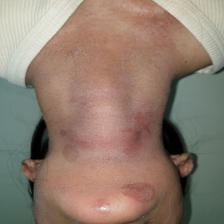DA: (48, 48, 170, 148), (86, 164, 160, 216)
